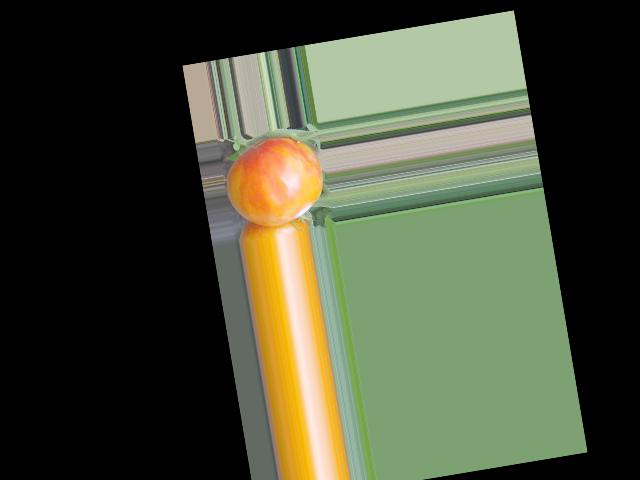tomato: (219, 131, 329, 232)
